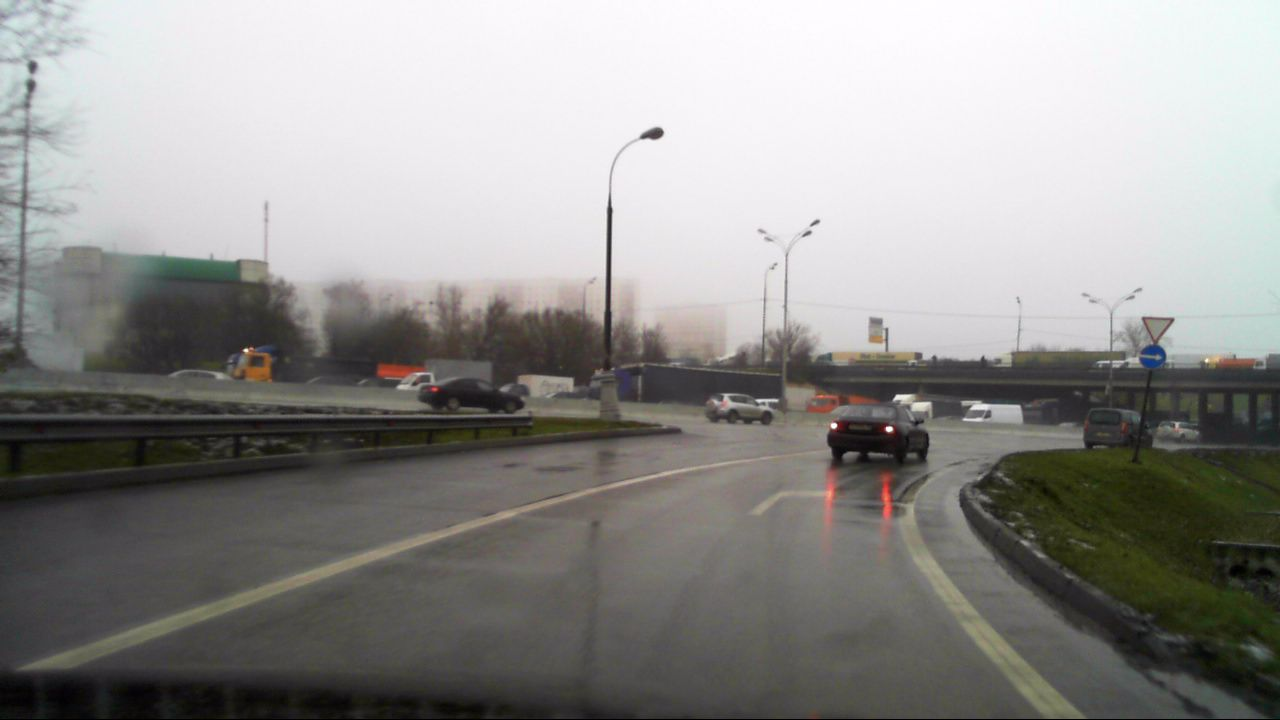Turn Right: (1139, 345, 1166, 370)
